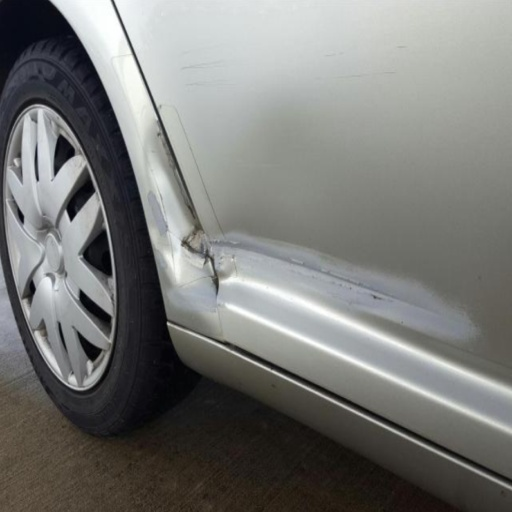dent: (207, 226, 472, 341), (144, 116, 225, 315), (145, 192, 179, 307), (214, 255, 243, 291)
scratch: (208, 226, 481, 350), (205, 238, 441, 315), (313, 69, 398, 81), (174, 38, 226, 57), (185, 74, 241, 90), (182, 57, 228, 74), (320, 47, 349, 61), (395, 42, 412, 52), (396, 44, 408, 50)
